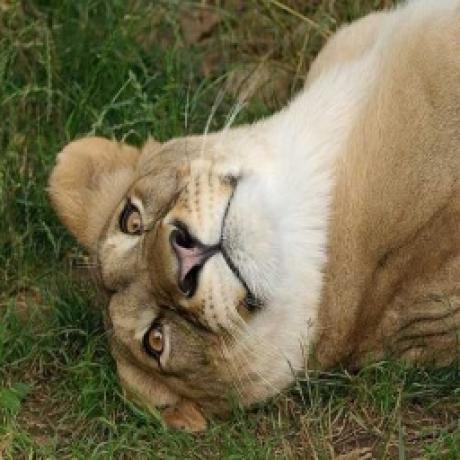Lion: (50, 4, 460, 438)
